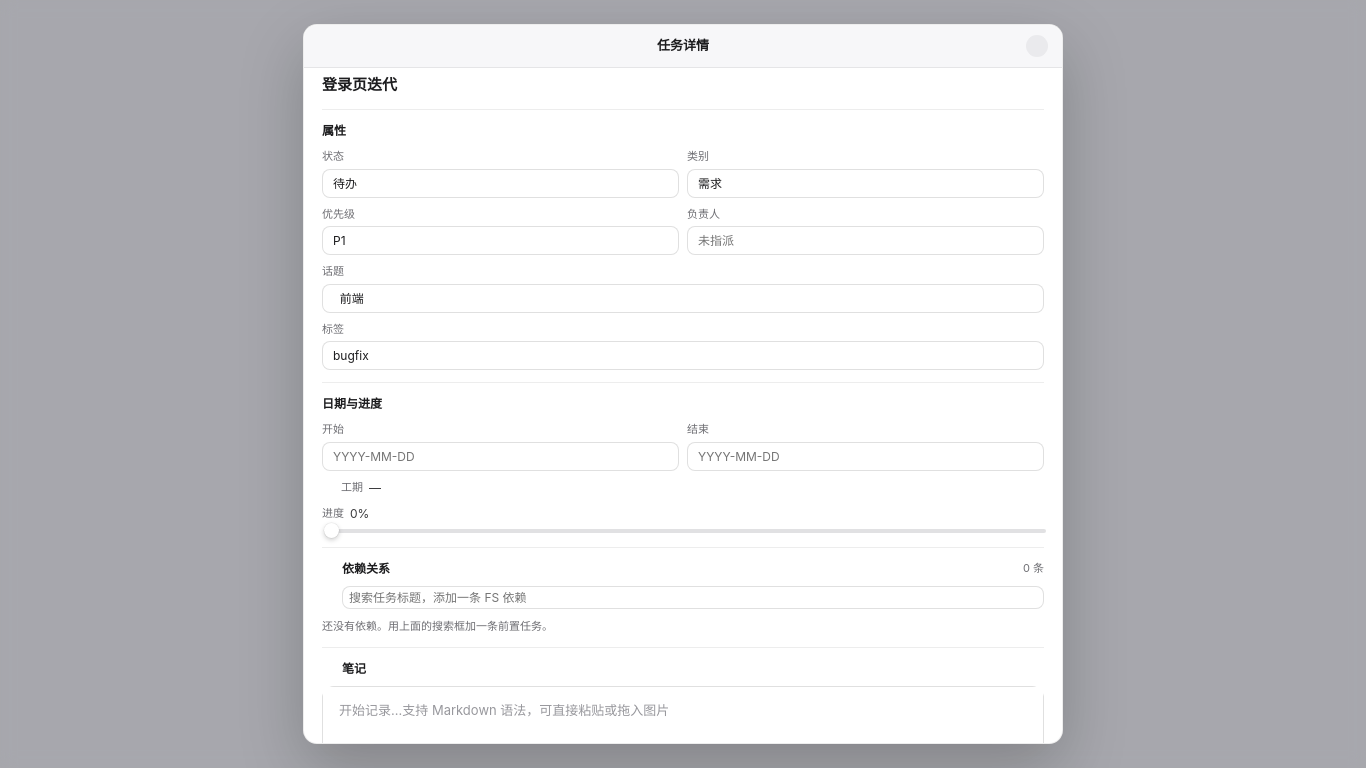
it: 标题 inline 编辑 › 点标题进入编辑，回车提交走 CommandBus（一条命令进撤销栈）
Click the button with test id "drawer-title-display": (360, 84) [322,72,1044,97]
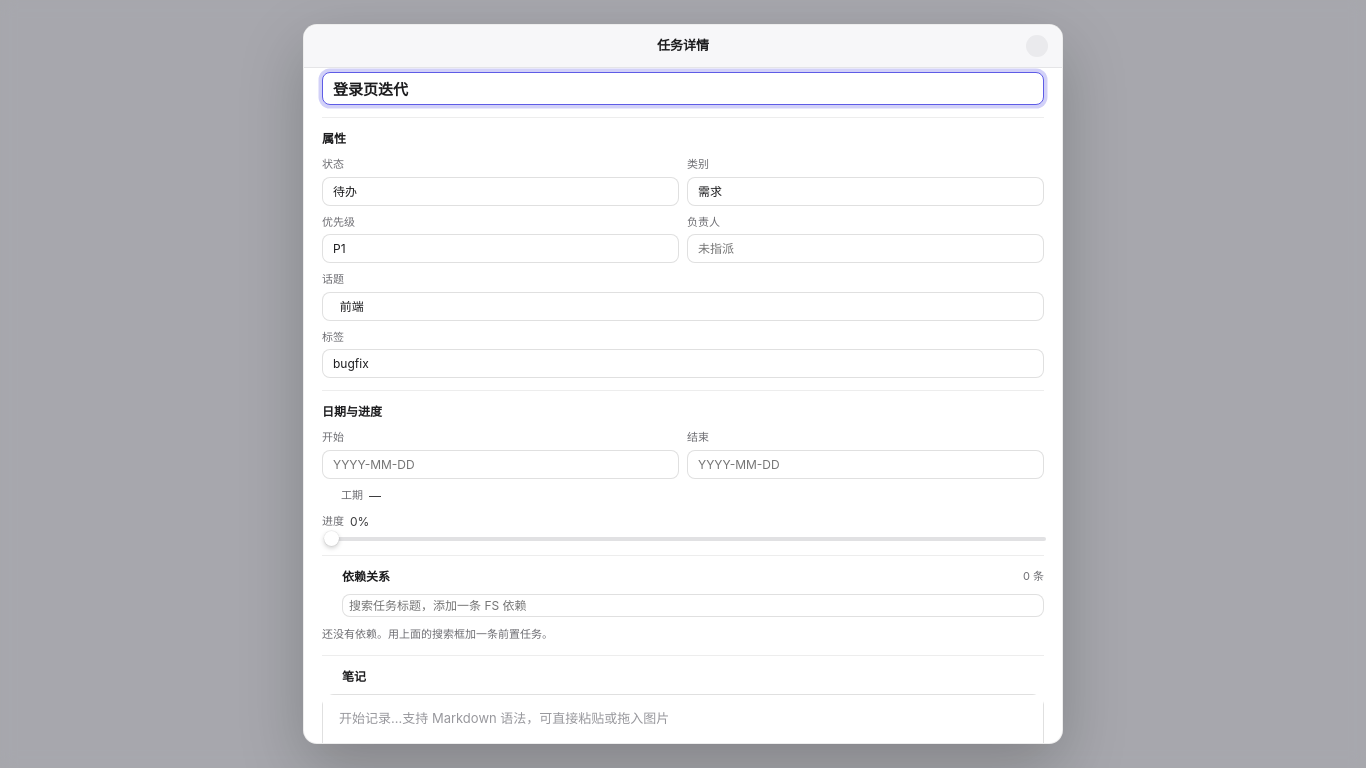
Replace the text in the field with test id "drawer-title-input" with "登录页迭代 v2": (683, 88) [322,72,1044,105]
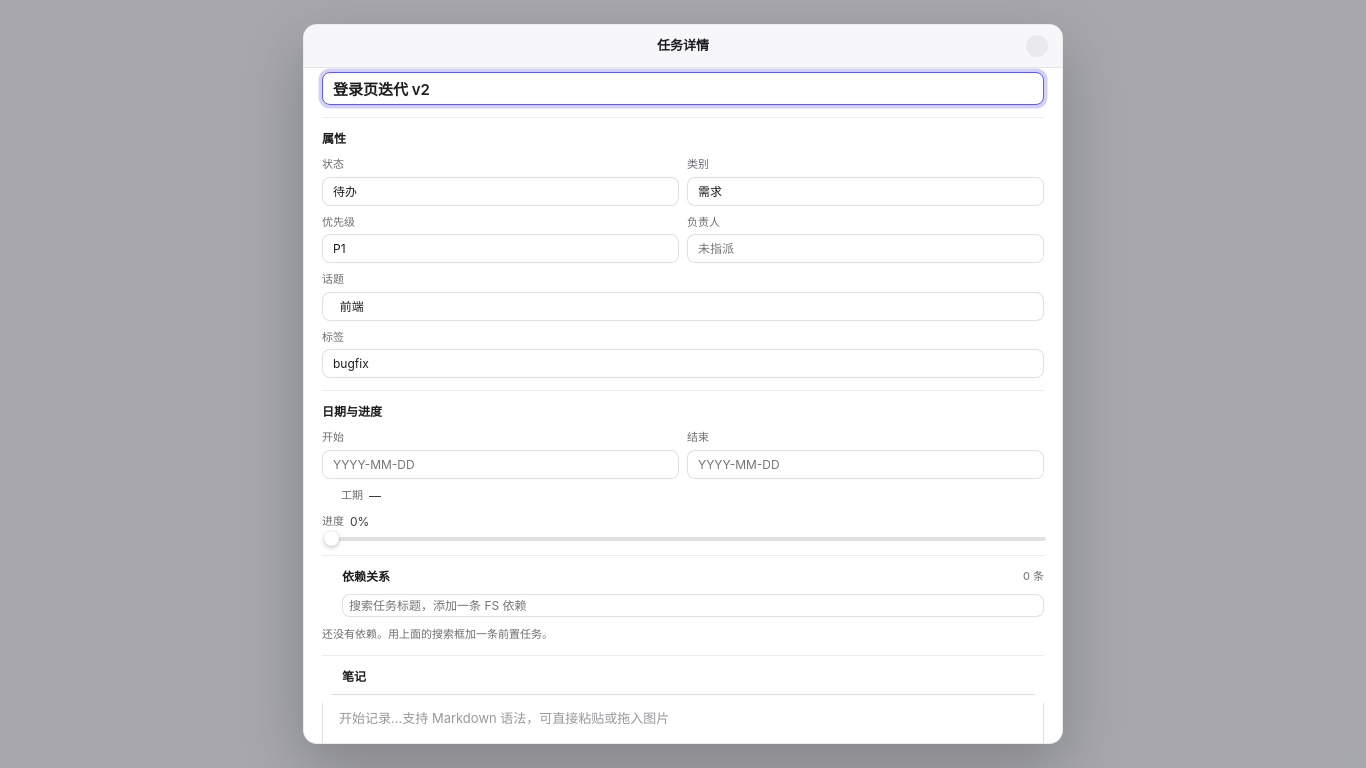
Press Enter in the field with test id "drawer-title-input", box [322,72,1044,105]
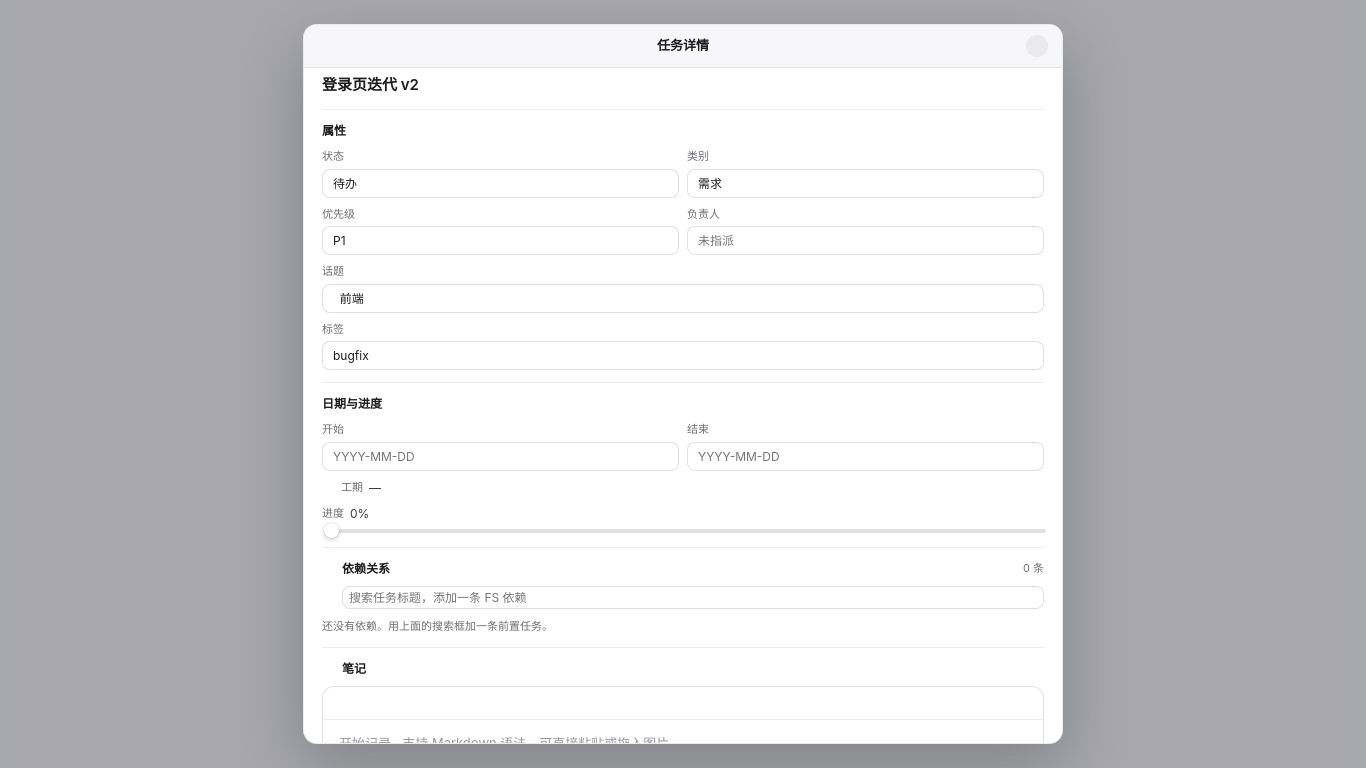
Now the button "登录页迭代 v2" is shown, box [322,72,1044,97]
Now the button with test id "drawer-title-display" reads "登录页迭代 v2", box [322,72,1044,97]
